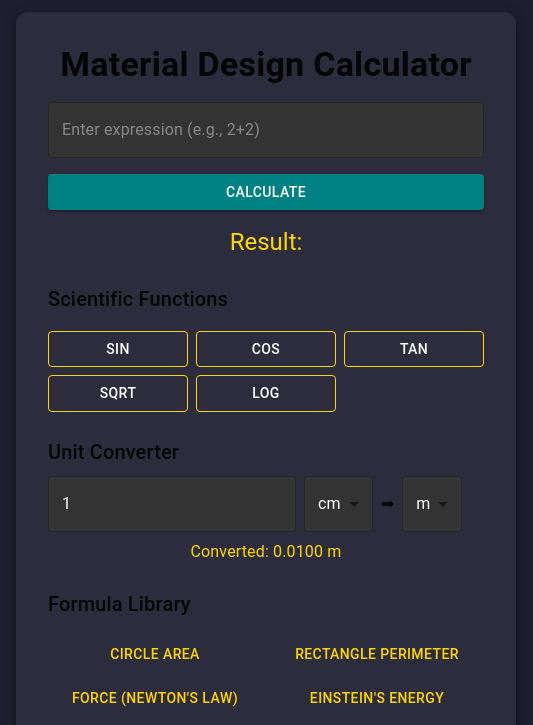
adds to calculation history
The width and height of the screenshot is (533, 725).
Type "10-4" into the field with placeholder "Enter expression (e.g., 2+2)". click: [266, 130]
box: [48, 102, 484, 158]
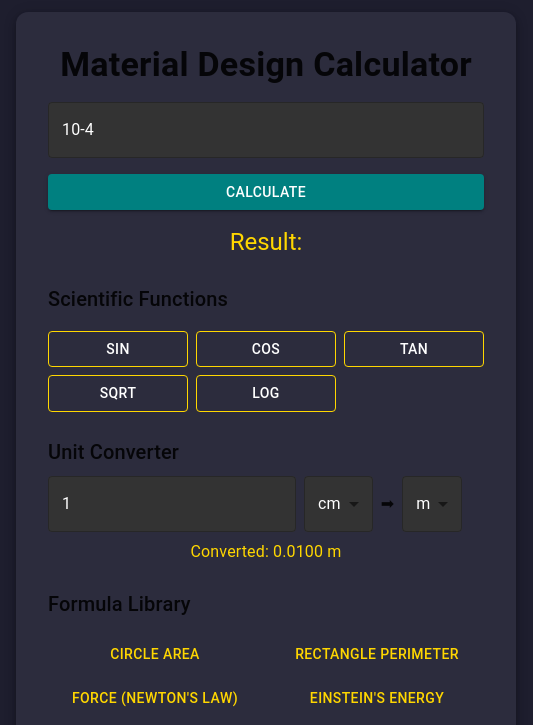
Click the button "Calculate". click: [266, 192]
box: [48, 174, 484, 210]
(page scrolled)
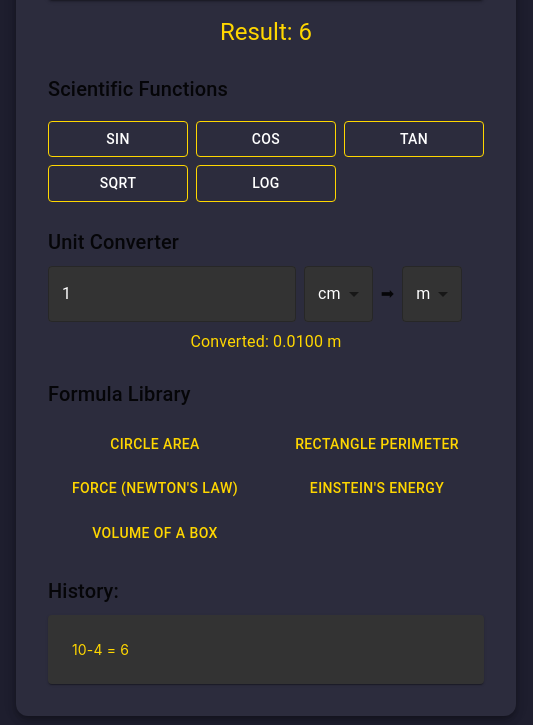
Check: the list item "10-4 = 6" is shown, box [72, 641, 129, 658]
